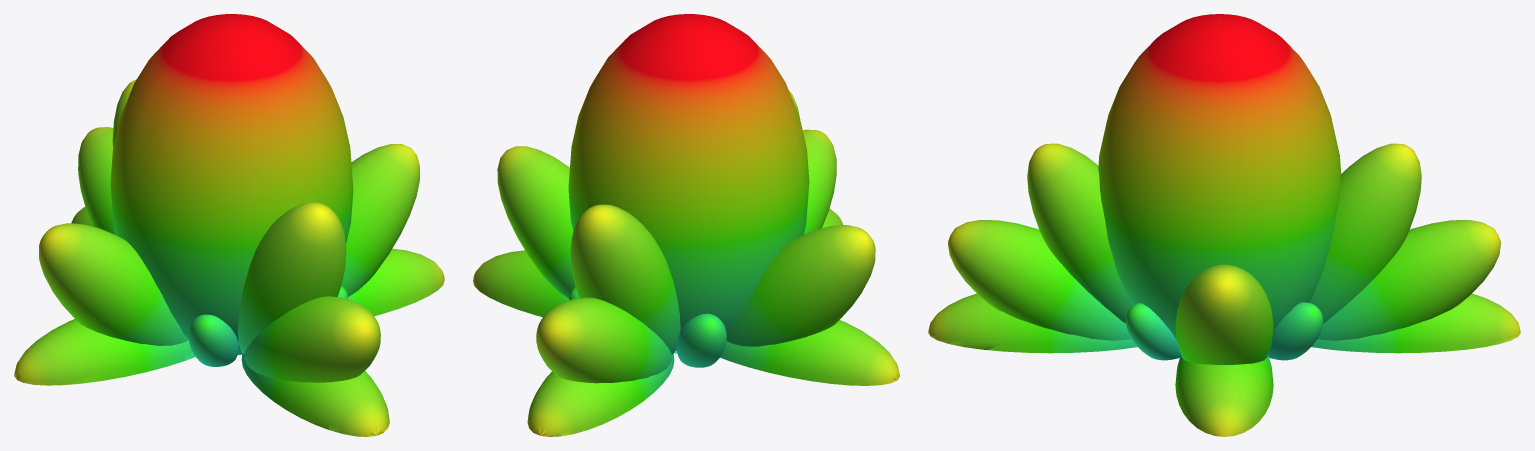
Rendered from radius_half.glb.
3 renders of one model, left to right at view 1: azimuth 30°, elevation 25°; view 2: azimuth 150°, elevation 25°; view 3: azimuth 270°, elevation 25°, orthographic.
Visible parts, largest first — view 1: 球体; view 2: 球体; view 3: 球体.
Part boxes in pixels (left/top/right/bottom): 球体: left=14, top=14, right=444, bottom=436; 球体: left=473, top=14, right=899, bottom=436; 球体: left=928, top=14, right=1520, bottom=436.
Size of the model in its own units: 4.03 by 2.8 by 4.83.
Materials: 26 (26 with a texture image).
